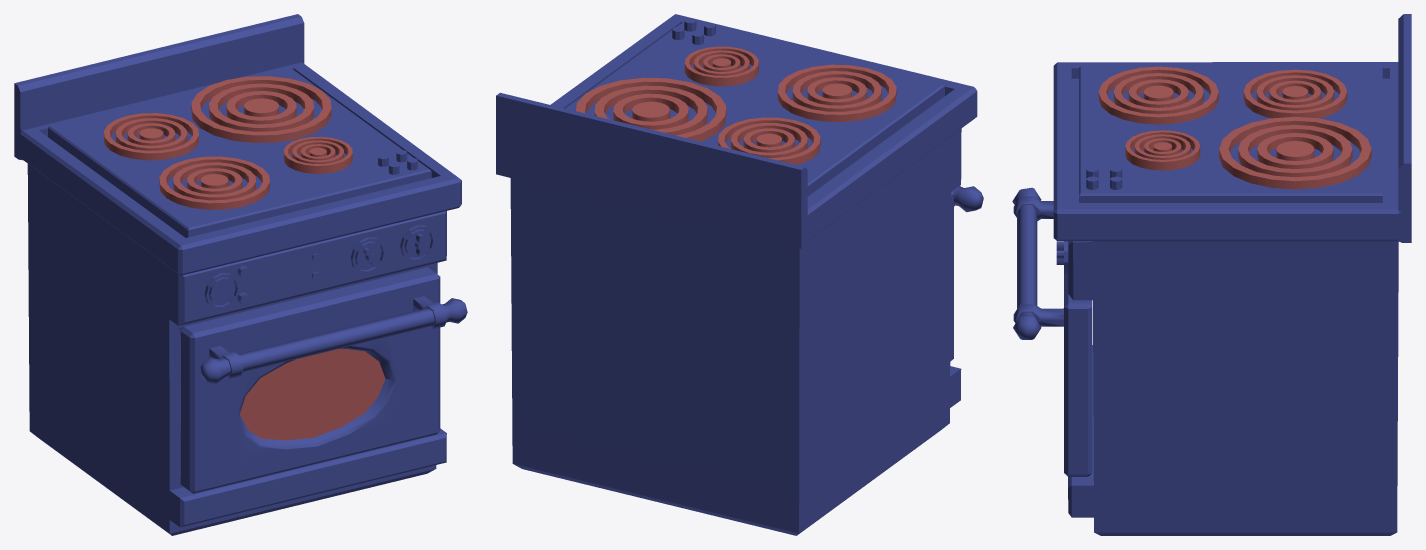
Rendered from Oven_open.fbx.
3 renders of one model, left to right at view 1: azimuth 30°, elevation 25°; view 2: azimuth 150°, elevation 25°; view 3: azimuth 270°, elevation 25°, orthographic. The views are drawn at different scales.
Visible parts, largest first — view 1: Oven, Oven_door; view 2: Oven, Oven_door; view 3: Oven, Oven_door.
Boxes of the visible parts, x1,y1,x2,y2 form: Oven: (14,14,461,535); Oven_door: (180,267,467,493); Oven: (496,14,977,535); Oven_door: (950,186,983,361); Oven: (1053,14,1411,535); Oven_door: (1012,187,1092,476).
Size of the model in its own units: 96.09 by 114 by 108.
